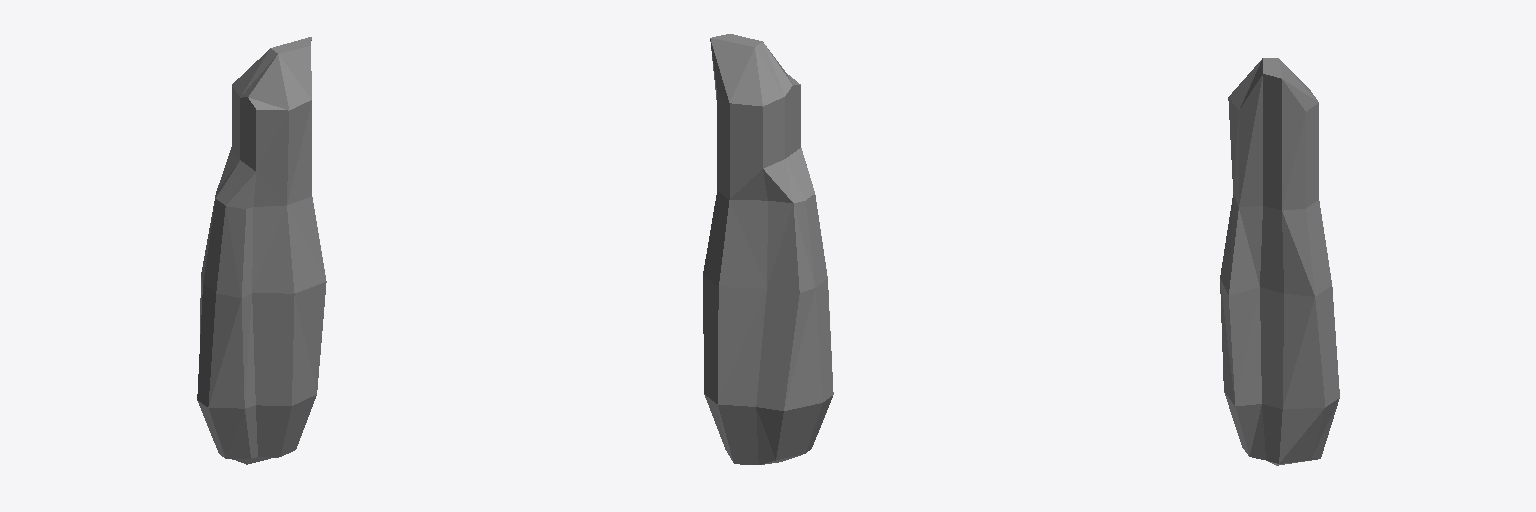
Rendered from stone_big_02.obj.
3 views of the same model, side by side, from view 1: azimuth 30°, elevation 25°; view 2: azimuth 150°, elevation 25°; view 3: azimuth 270°, elevation 25° (orthographic).
Size of the model in its own units: 1.44 by 4.95 by 1.31.